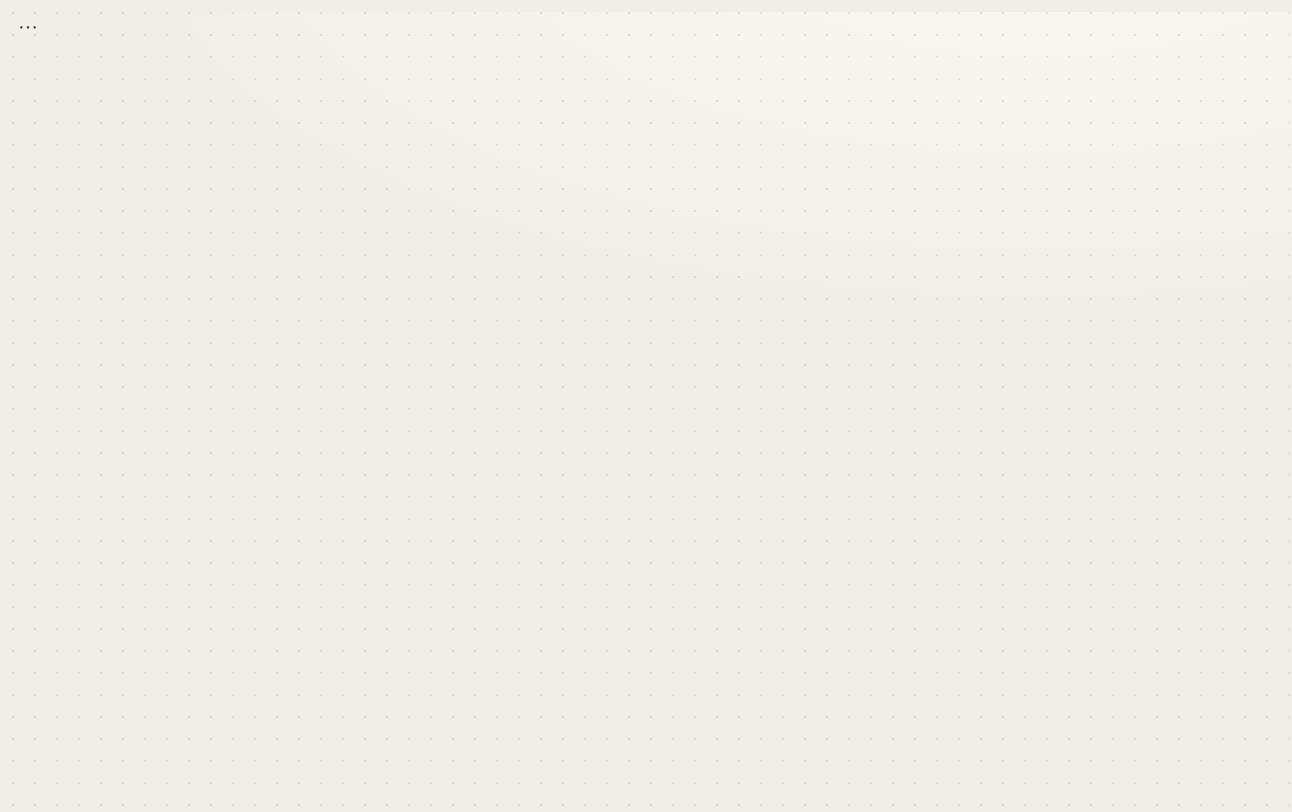
Scenario: BulkMenu › offers both whole-board edits, moves with arrows and returns focus to 更多操作
The width and height of the screenshot is (1292, 812).
Later steps or results of the test are not shown.
Click the button named "更多操作" at (28, 28), box top-left (12, 12), bottom-right (44, 44)
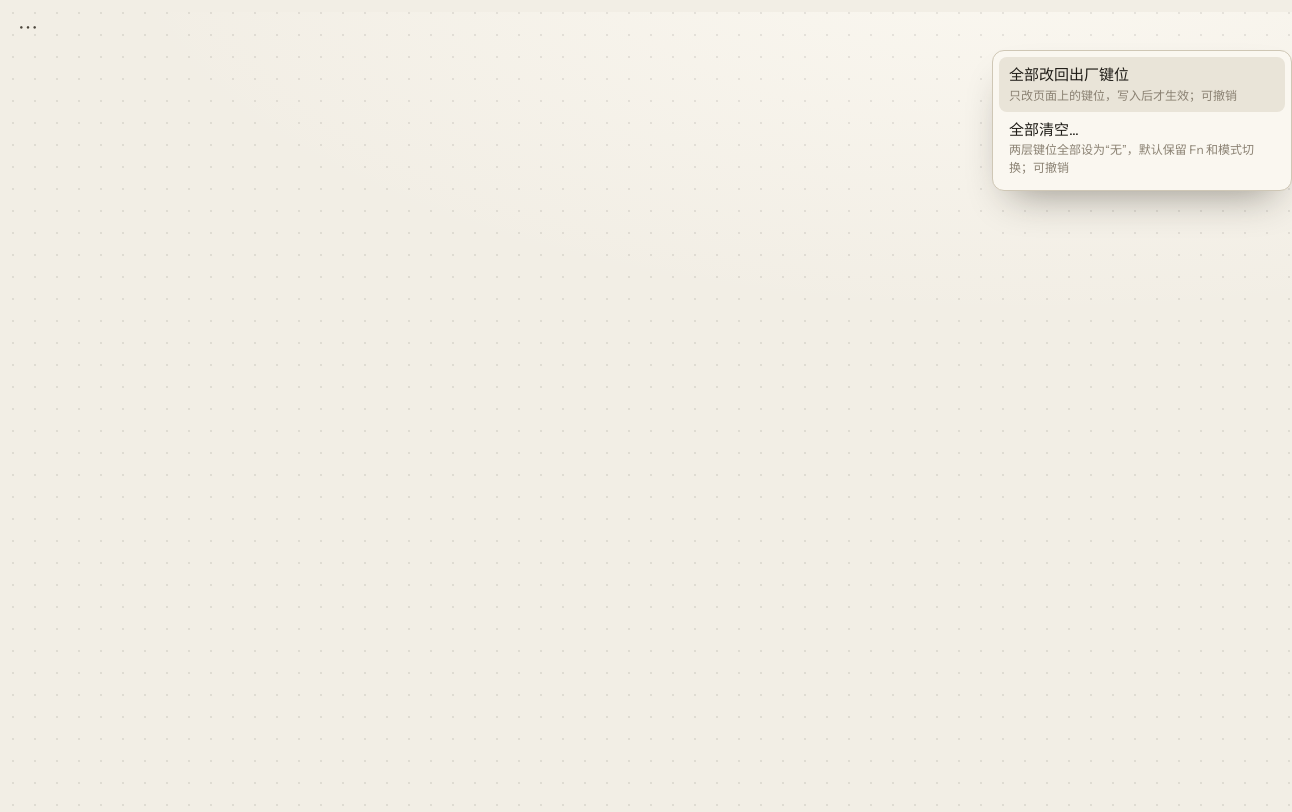
Expected: the menu named "更多操作" is shown, top-left (992, 50), bottom-right (1291, 191)
Press ArrowDown in the menu item "全部改回出厂键位 只改页面上的键位，写入后才生效；可撤销", box top-left (999, 57), bottom-right (1285, 112)
Press ArrowDown in the menu item "全部清空… 两层键位全部设为“无”，默认保留 Fn 和模式切换；可撤销", box top-left (999, 112), bottom-right (1285, 184)
Press End in the menu item "全部改回出厂键位 只改页面上的键位，写入后才生效；可撤销", box top-left (999, 57), bottom-right (1285, 112)
Press Escape in the menu item "全部清空… 两层键位全部设为“无”，默认保留 Fn 和模式切换；可撤销", box top-left (999, 112), bottom-right (1285, 184)
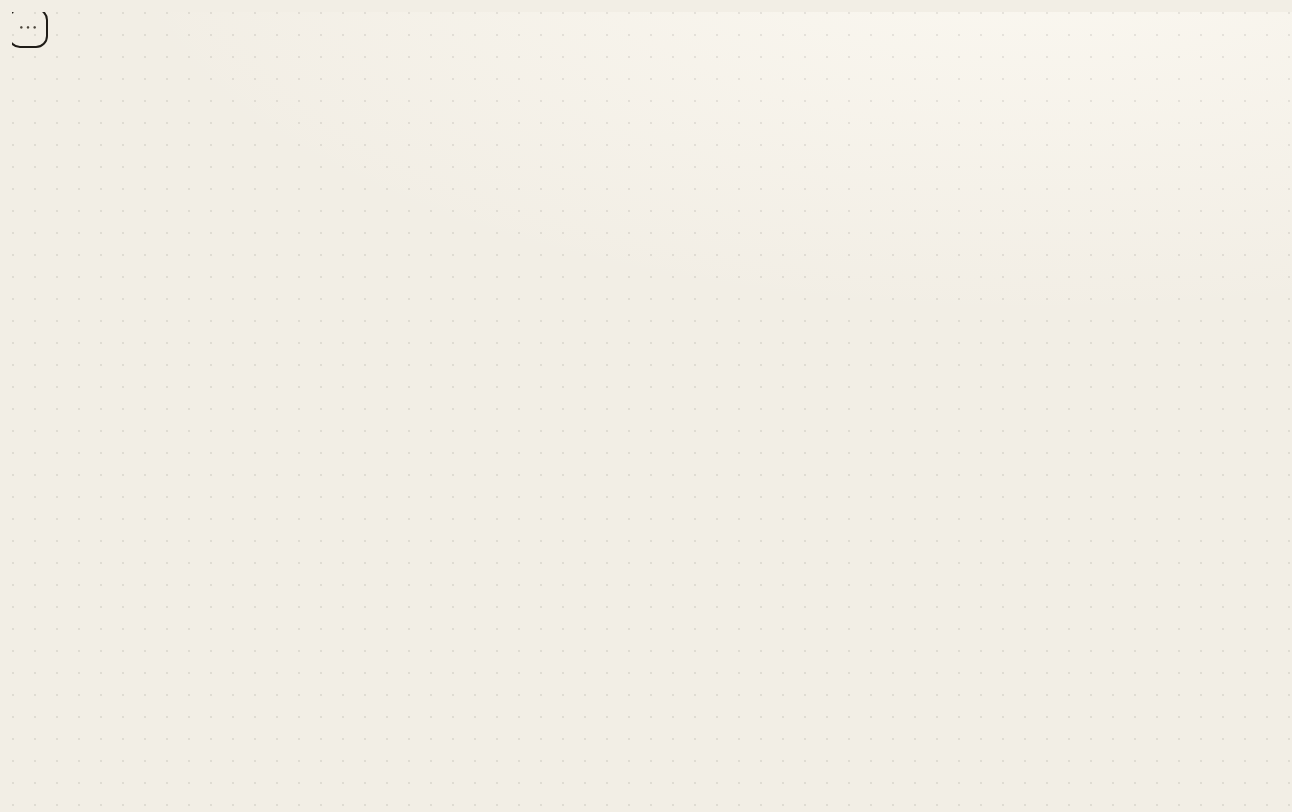
Expected: the menu is gone
Press ArrowDown in the button named "更多操作", box top-left (12, 12), bottom-right (44, 44)
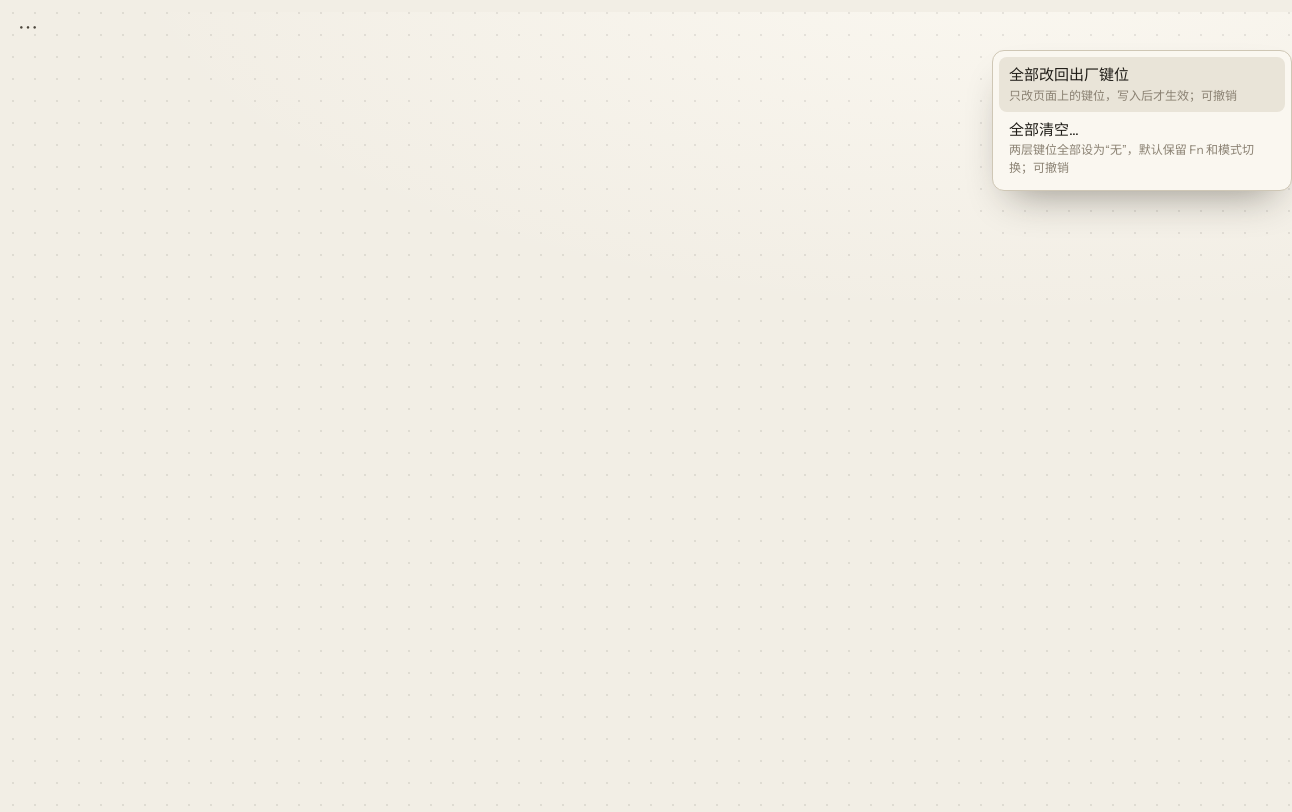
Click the menu item "全部清空… 两层键位全部设为“无”，默认保留 Fn 和模式切换；可撤销" at (1142, 148), box top-left (999, 112), bottom-right (1285, 184)
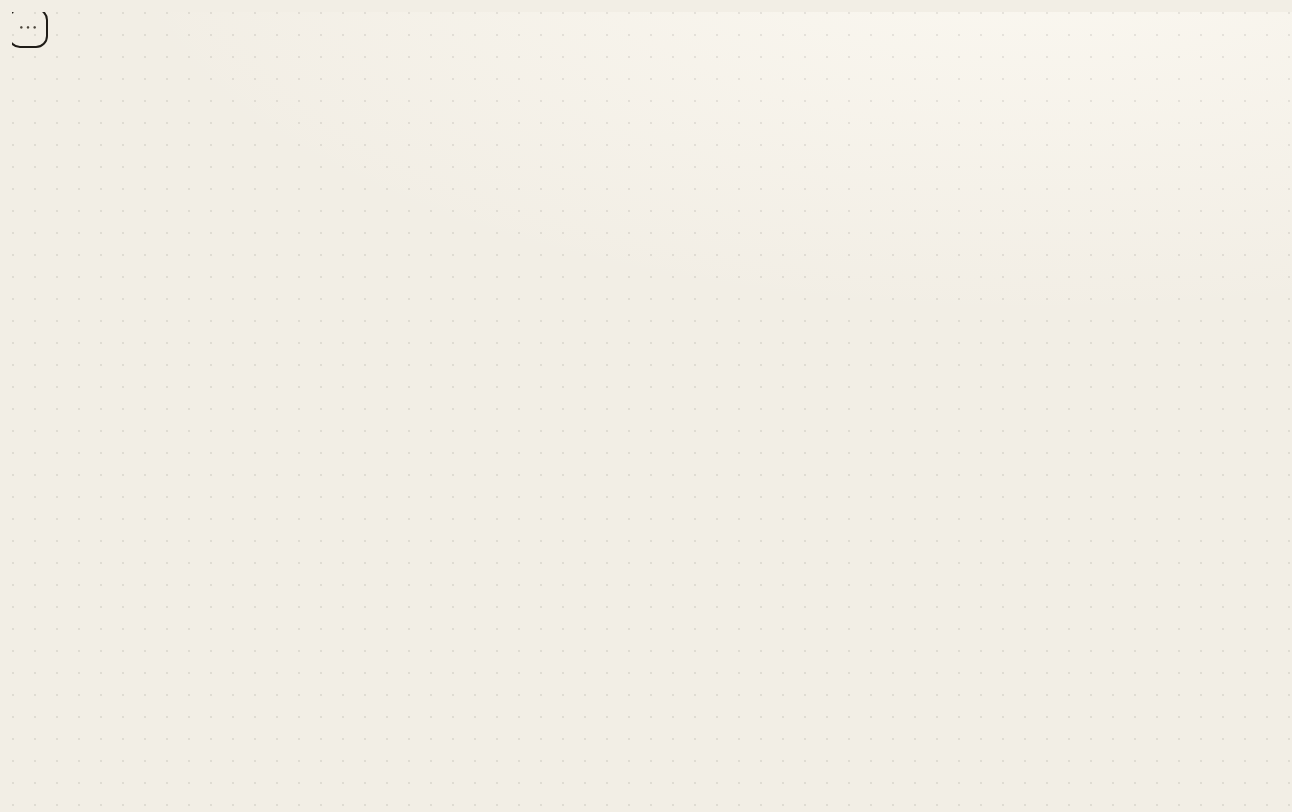
Expected: the menu is gone
